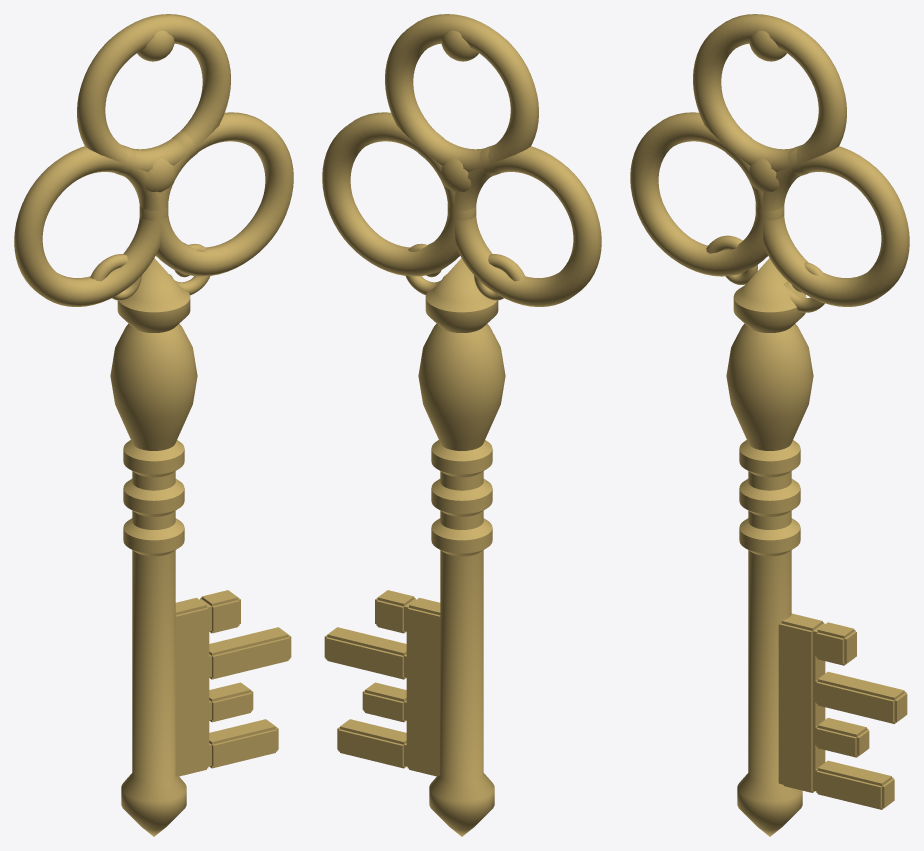
Rendered from schluessel_c.fbx.
The picture shows the model from 3 angles, left to right: view 1: azimuth 30°, elevation 25°; view 2: azimuth 150°, elevation 25°; view 3: azimuth 330°, elevation 25°; orthographic projection.
Parts seen in each view (by area): view 1: Schluessel_C; view 2: Schluessel_C; view 3: Schluessel_C.
Boxes of the visible parts, x1=… form: Schluessel_C: x1=14, y1=14, x2=293, y2=836; Schluessel_C: x1=322, y1=14, x2=601, y2=836; Schluessel_C: x1=630, y1=14, x2=909, y2=836.
Bounding box in the file's own units: 4.37 × 12.44 × 1.2.
